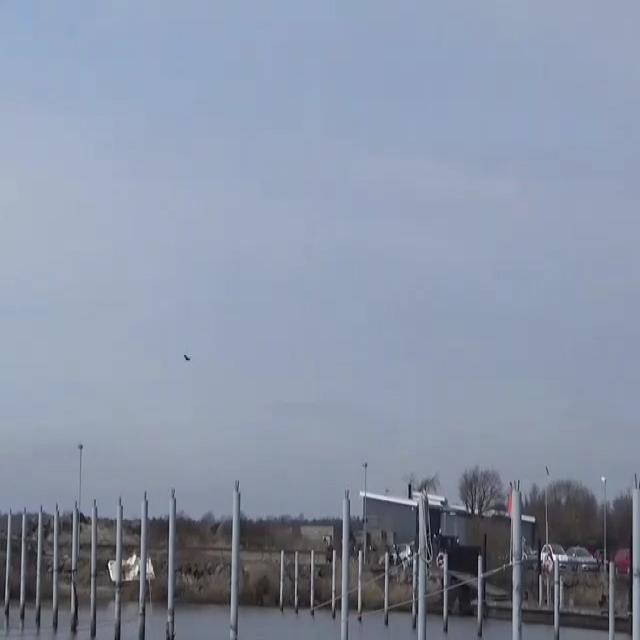bird: (181, 351, 194, 364)
